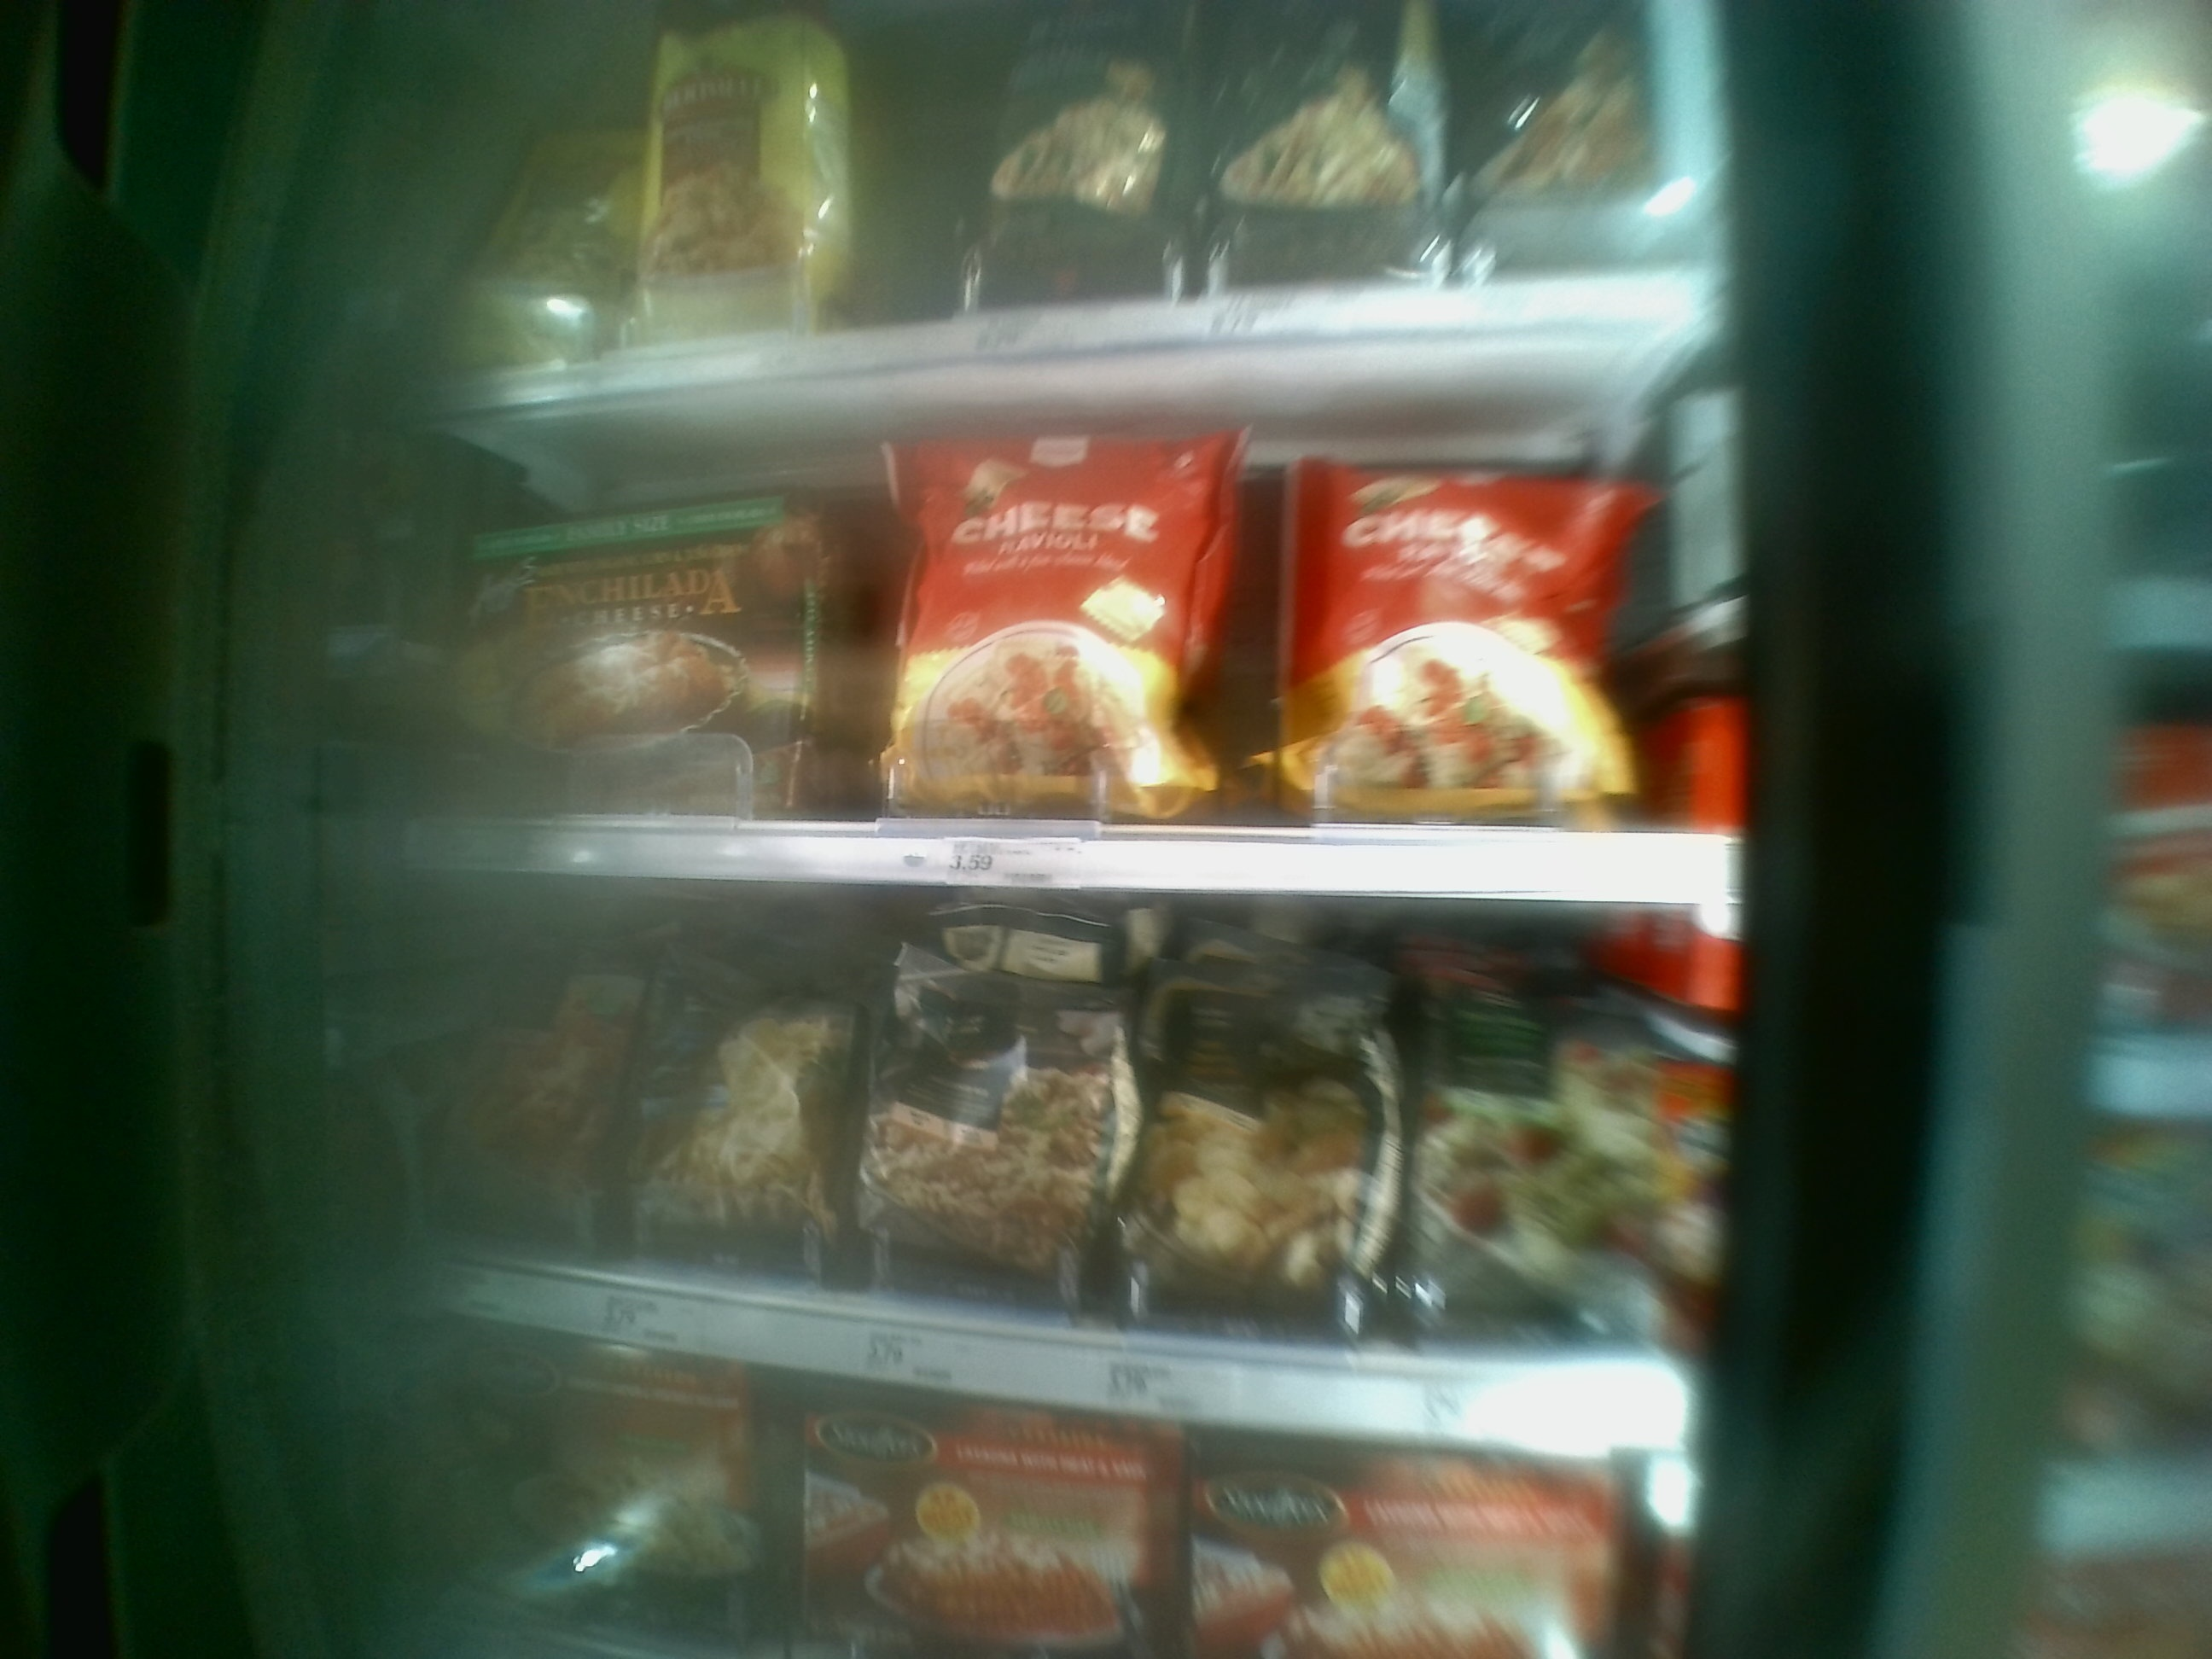shelf: (401, 317, 1724, 910), (383, 877, 1719, 1453)
